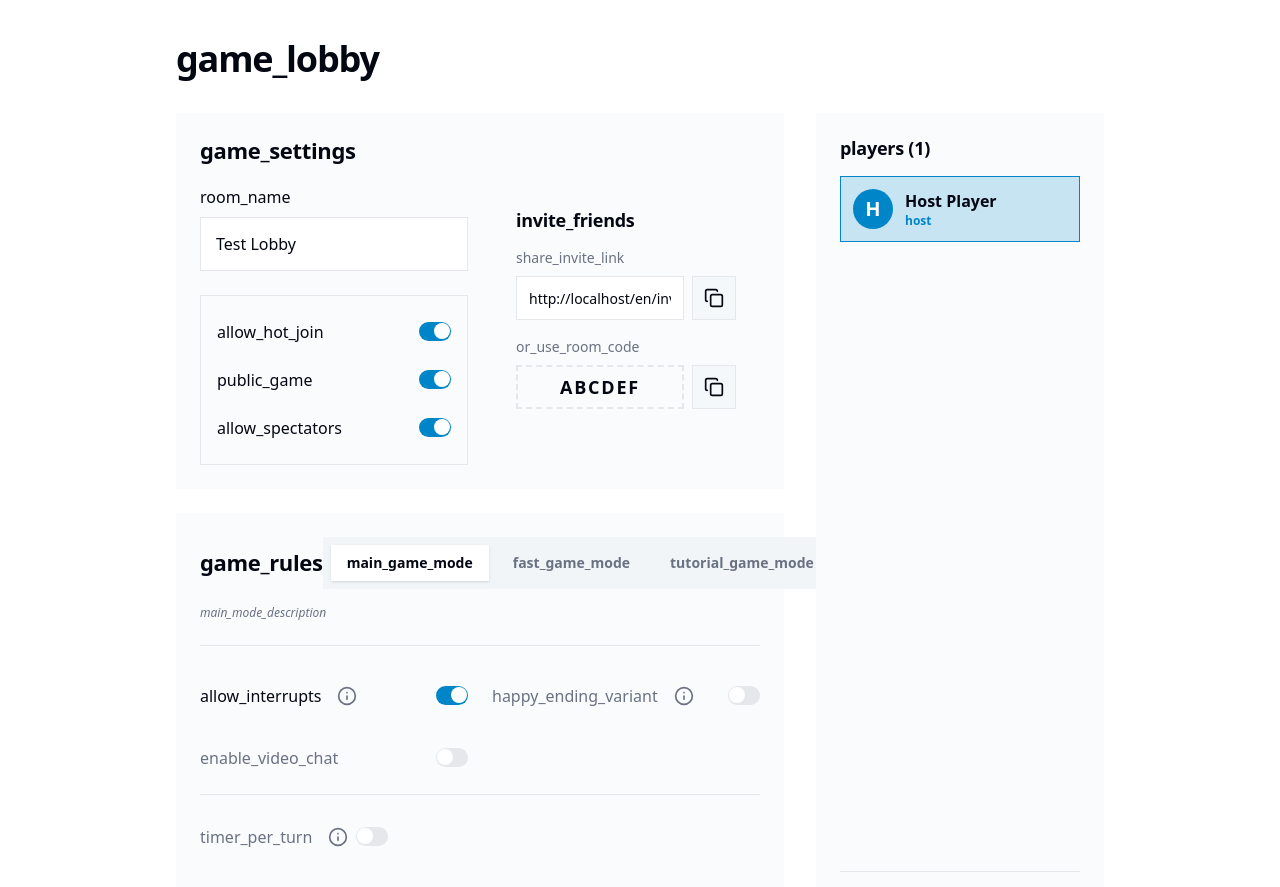
it: AdminLobbyView › allows interrupts in main mode
Step 1. Click the button "main_game_mode" → x=410, y=562, box [331, 544, 489, 580]
(page scrolled)
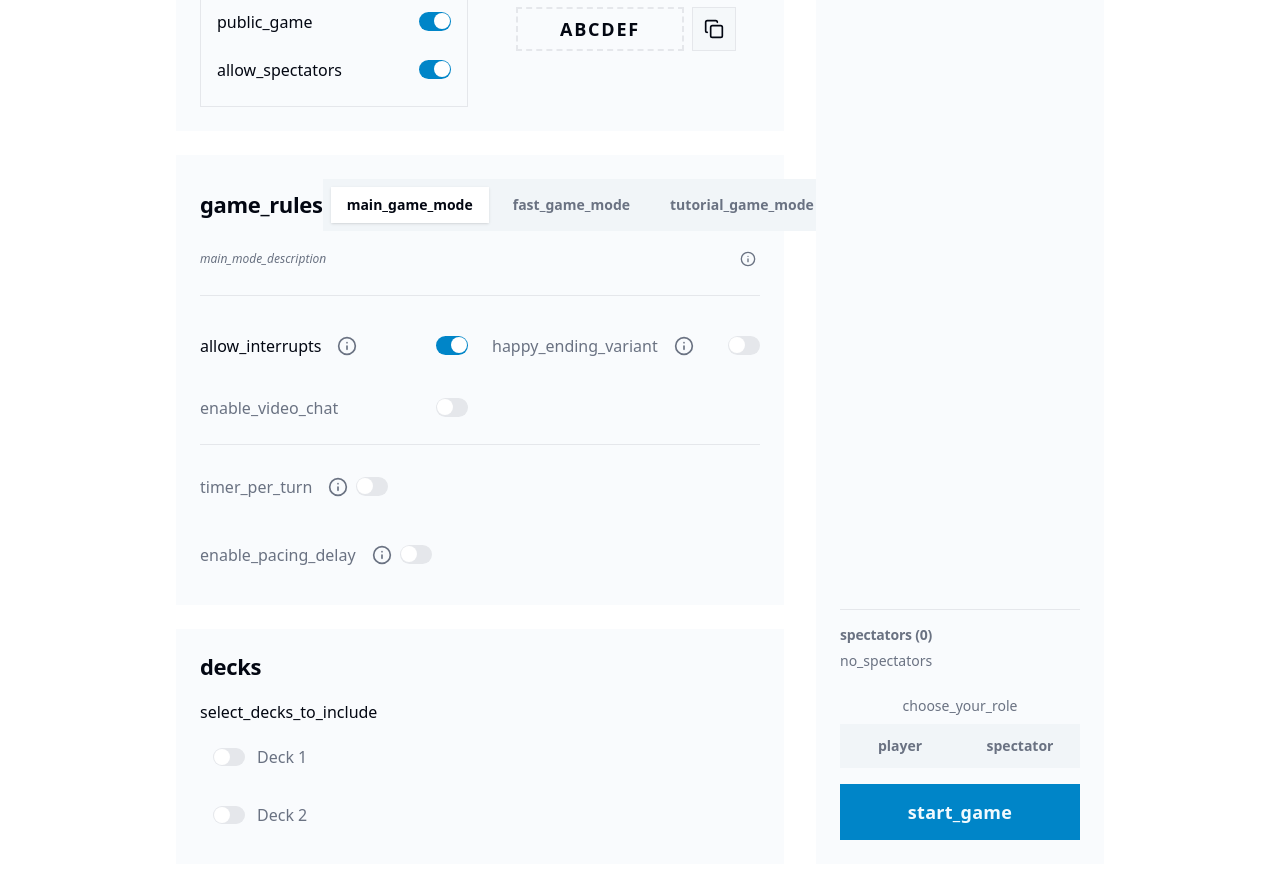
Expected: the switch named "allow_interrupts" next to "allow_interrupts" is enabled, [436, 336, 468, 355]
Result: the text "Deck 1" is shown at [257, 745, 307, 769]
